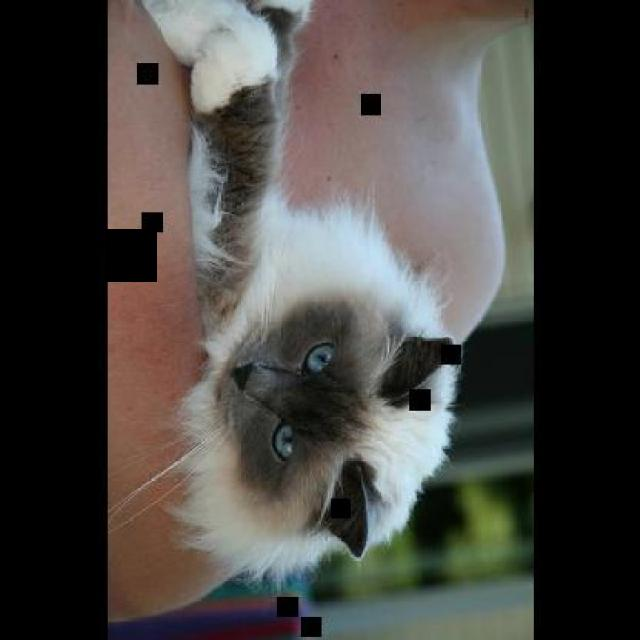unauthorized: (106, 0, 463, 620)
